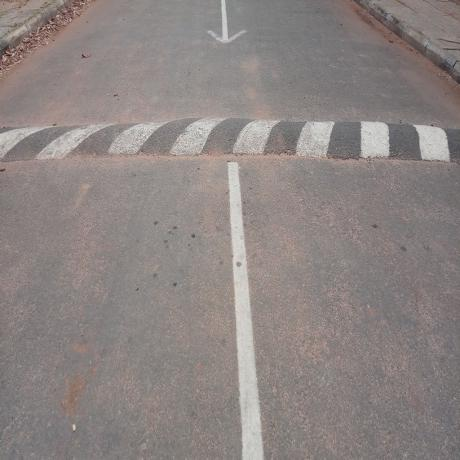Speed Bump: (2, 120, 459, 163)
